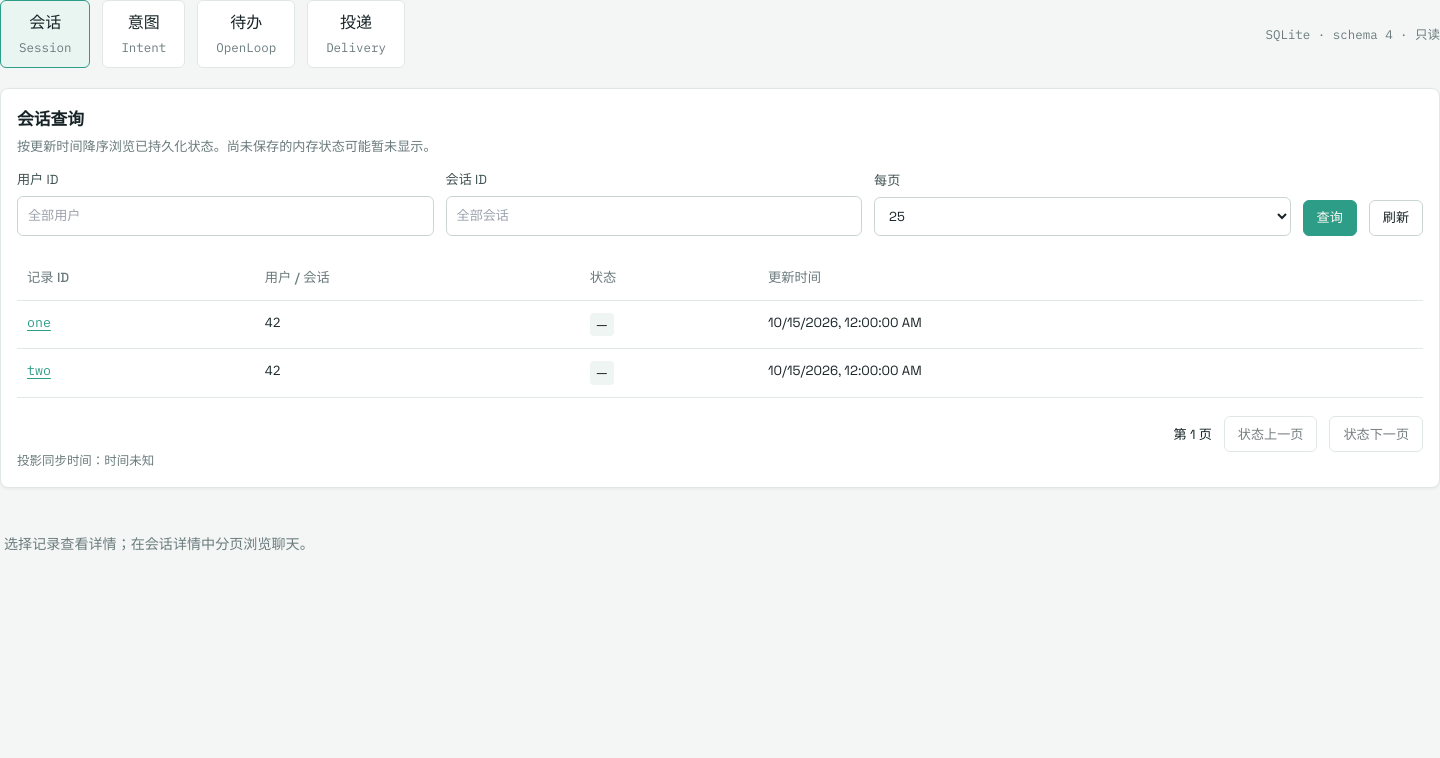
state queries › cancels an in-flight chat request when switching sessions
Click the button with aria-label "查看 one" at (39, 322), box [27, 312, 51, 332]
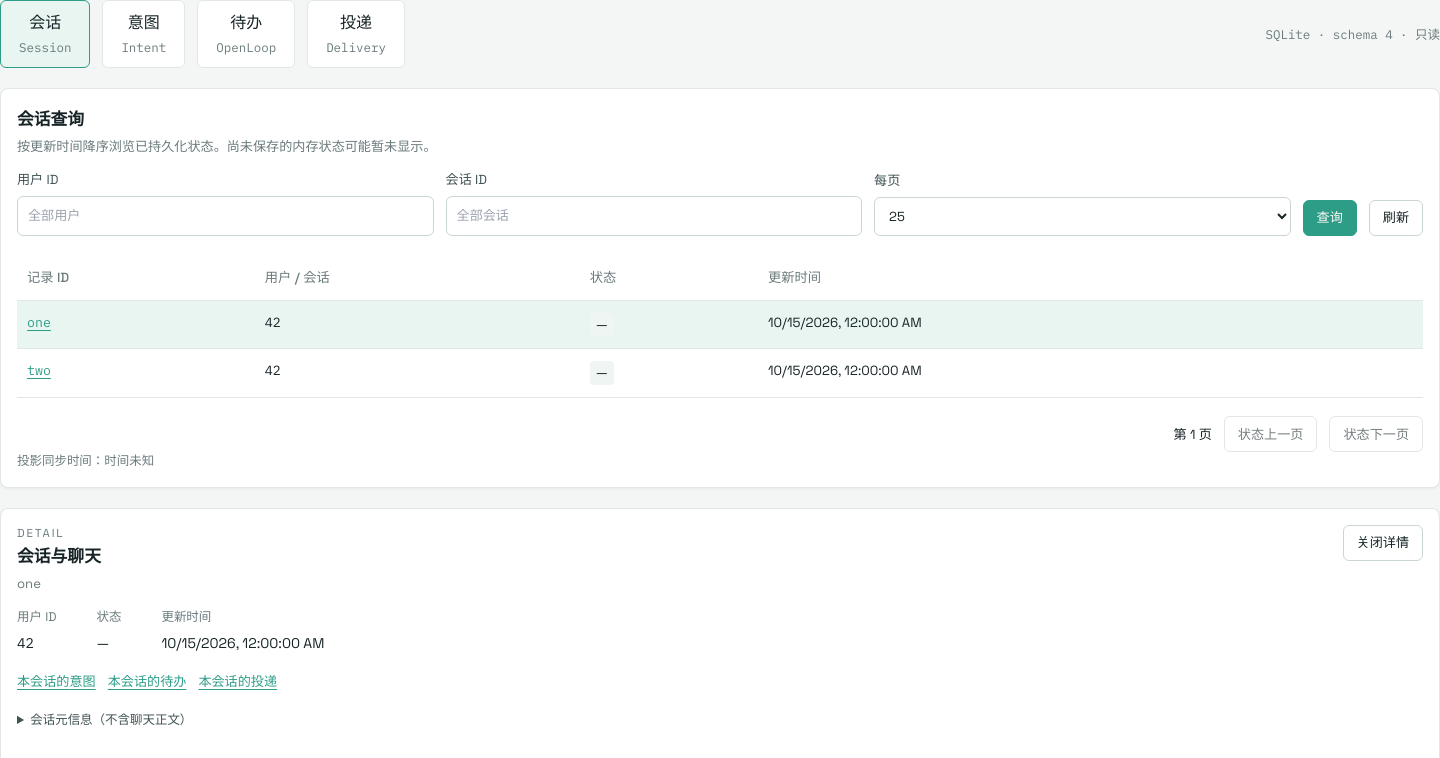
Click the button with aria-label "查看 two" at (39, 371), box [27, 361, 51, 381]
(page scrolled)
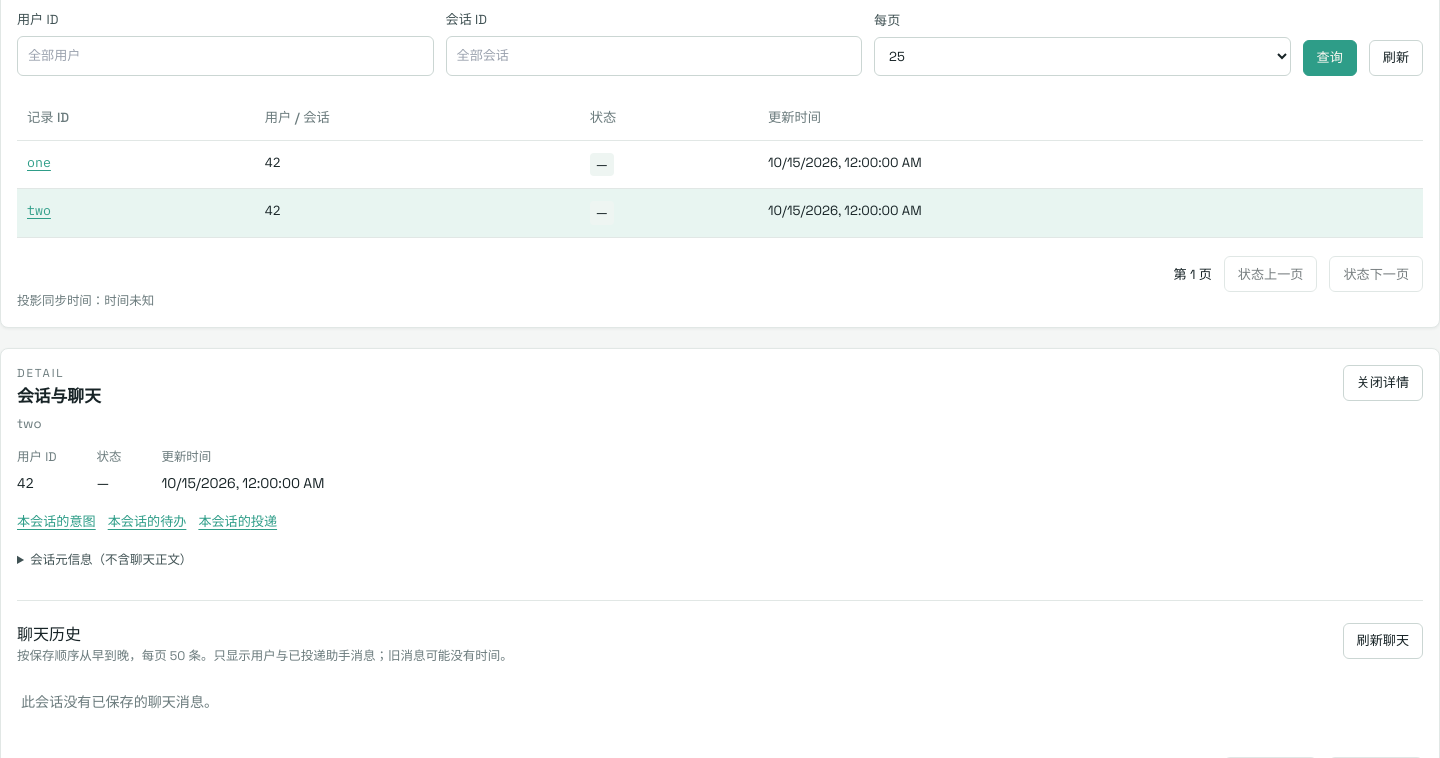
Result: the text "此会话没有已保存的聊天消息。" is shown at [21, 693, 218, 711]
